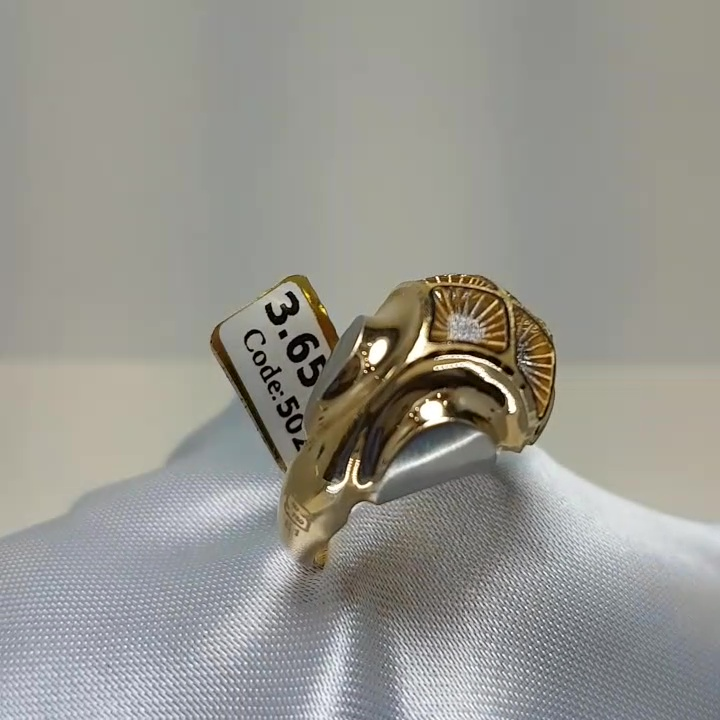Ring 2: (250, 226, 598, 613)
